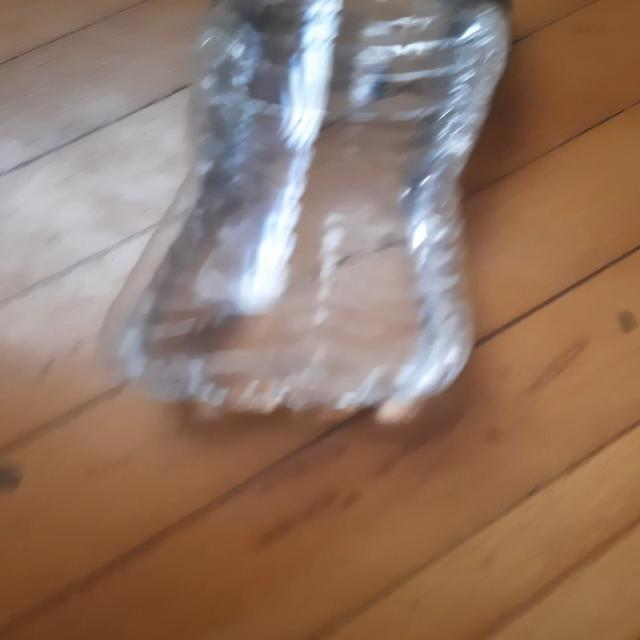Plastic: (98, 0, 514, 426)
